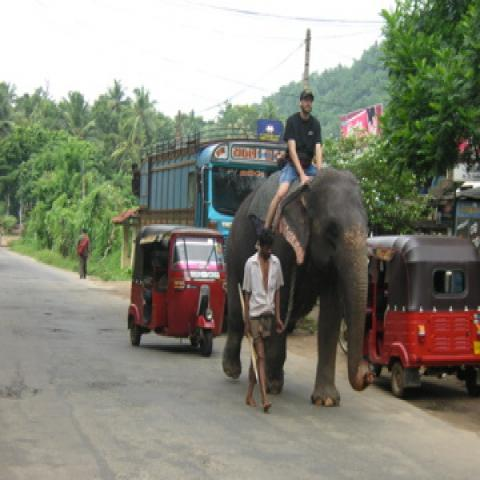bus: (137, 129, 286, 260)
car: (364, 235, 479, 398)
truck: (111, 116, 288, 273)
